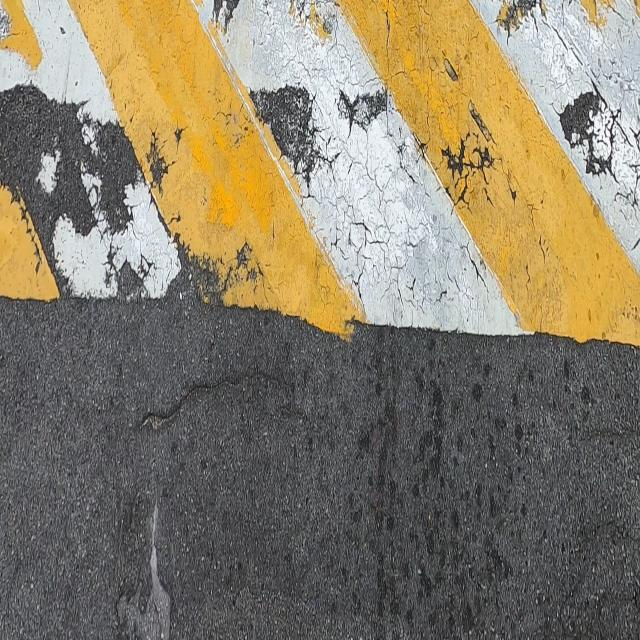Retak-Melintang: (139, 367, 296, 437), (592, 521, 640, 544), (586, 424, 639, 440)
